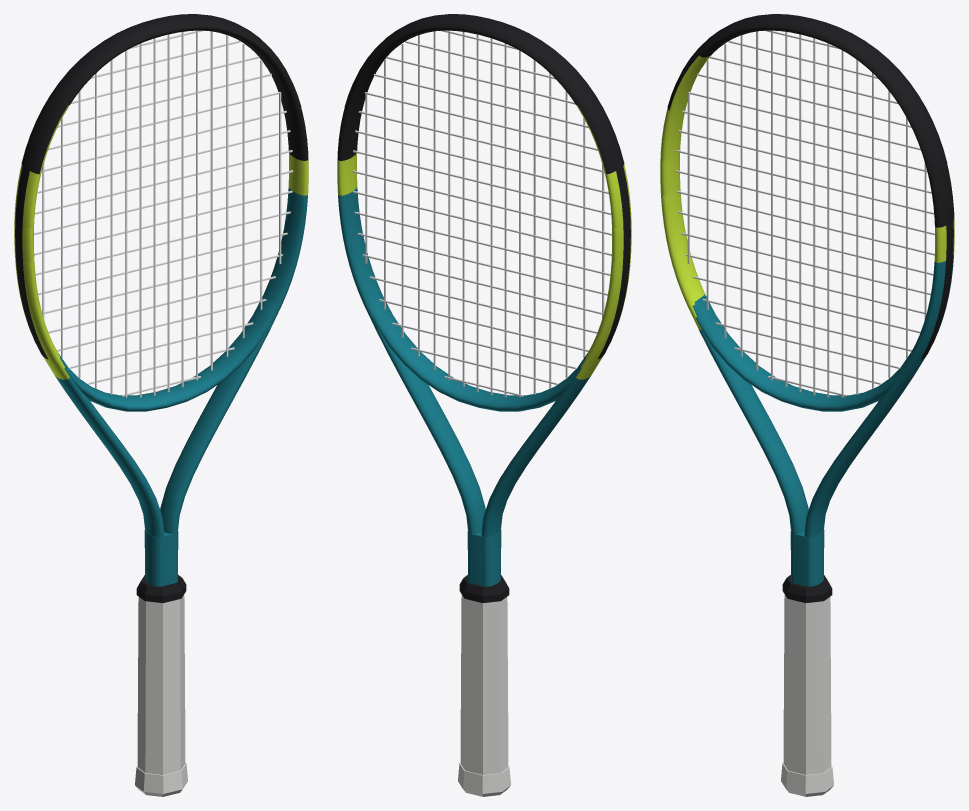
File: dunlop-sx-300-lite-2025.glb
The picture shows the model from 3 angles, left to right: view 1: azimuth 30°, elevation 25°; view 2: azimuth 150°, elevation 25°; view 3: azimuth 330°, elevation 25°; orthographic projection.
Parts seen in each view (by area): view 1: frame, strings_mains, strings_crosses, grip, bumper, grommets, butt_cap, collar; view 2: frame, strings_mains, strings_crosses, grip, bumper, grommets, butt_cap, collar; view 3: frame, strings_mains, strings_crosses, grip, bumper, grommets, butt_cap, collar.
Boxes of the visible parts, bbox=[...] form: frame: bbox=[14, 27, 308, 586]; strings_mains: bbox=[42, 30, 281, 397]; strings_crosses: bbox=[34, 30, 293, 396]; grip: bbox=[137, 594, 185, 774]; bumper: bbox=[21, 14, 301, 174]; grommets: bbox=[15, 166, 47, 359]; butt_cap: bbox=[135, 762, 187, 796]; collar: bbox=[136, 575, 186, 602]; frame: bbox=[337, 27, 631, 586]; strings_mains: bbox=[365, 30, 604, 397]; strings_crosses: bbox=[352, 30, 611, 396]; grip: bbox=[460, 594, 508, 774]; bumper: bbox=[344, 14, 624, 174]; grommets: bbox=[598, 166, 630, 359]; butt_cap: bbox=[458, 762, 510, 796]; collar: bbox=[459, 575, 509, 602]; frame: bbox=[660, 27, 954, 586]; strings_mains: bbox=[687, 30, 926, 397]; strings_crosses: bbox=[675, 30, 934, 396]; grip: bbox=[783, 594, 831, 774]; bumper: bbox=[667, 14, 947, 174]; grommets: bbox=[921, 166, 953, 359]; butt_cap: bbox=[781, 762, 833, 796]; collar: bbox=[782, 575, 832, 602].
Size of the model in its own units: 0.2687 by 0.6861 by 0.0377.
